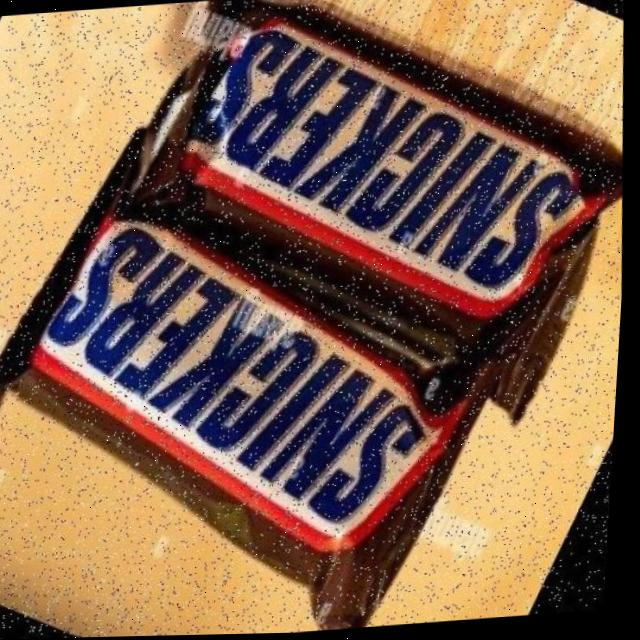Dry: (0, 67, 628, 516), (182, 478, 461, 636), (153, 0, 393, 92)
